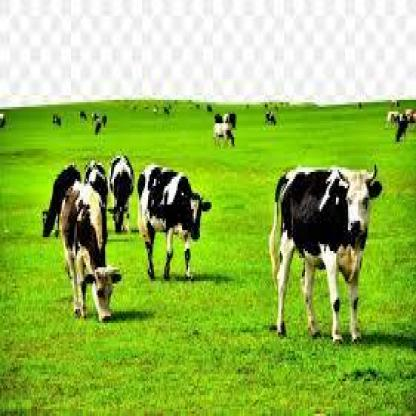cow: (268, 164, 383, 347), (59, 180, 122, 322), (138, 164, 212, 280), (42, 164, 82, 238), (109, 153, 135, 235), (85, 160, 109, 240), (212, 120, 234, 150), (395, 120, 409, 143), (386, 110, 402, 129), (402, 108, 416, 126), (265, 110, 277, 129), (223, 113, 237, 129), (93, 120, 102, 138), (214, 112, 223, 126), (53, 114, 62, 128), (91, 110, 100, 124), (79, 109, 88, 121), (102, 114, 107, 128)
